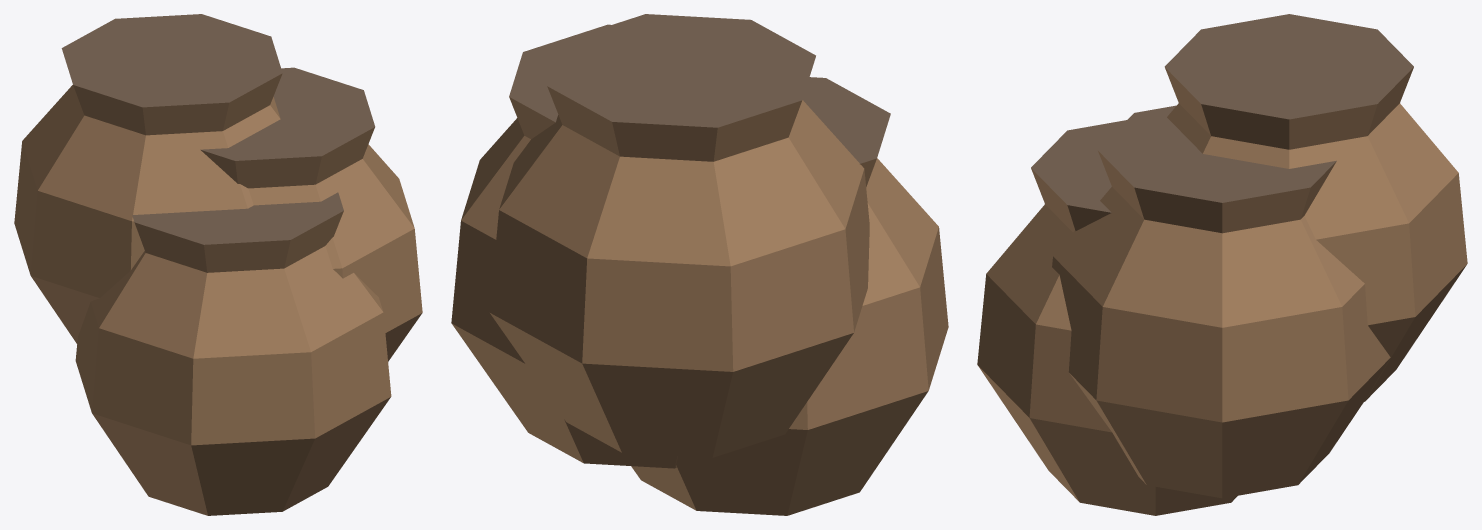
The model's file is w3d_item_raw_pot_m.glb.
The picture shows the model from 3 angles, left to right: view 1: azimuth 30°, elevation 25°; view 2: azimuth 150°, elevation 25°; view 3: azimuth 270°, elevation 25°; orthographic projection. The views are drawn at different scales.
Parts seen in each view (by area): view 1: item_008_raw_pot_m; view 2: item_008_raw_pot_m; view 3: item_008_raw_pot_m.
Boxes of the visible parts, left/top/right/bottom form: item_008_raw_pot_m: left=14, top=14, right=422, bottom=515; item_008_raw_pot_m: left=451, top=14, right=948, bottom=515; item_008_raw_pot_m: left=977, top=14, right=1467, bottom=515.
Size of the model in its own units: 0.39 by 0.4 by 0.44.
